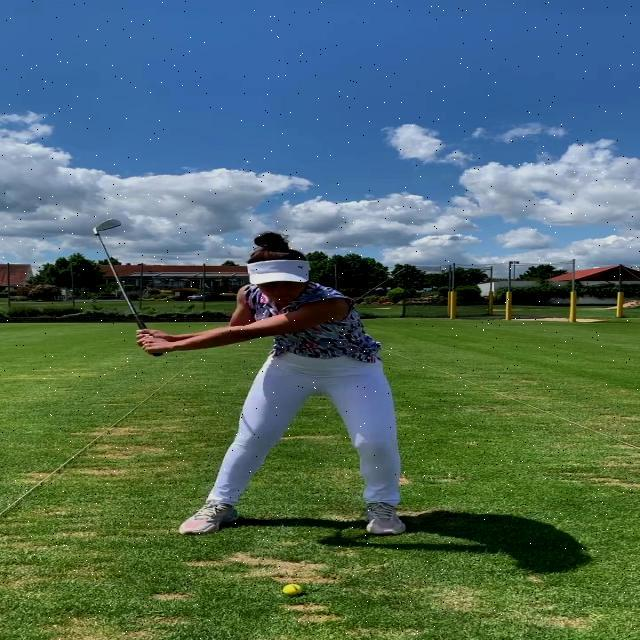golf ball: (283, 584, 301, 595)
golf club-handle: (94, 219, 164, 356)
golf club-head: (92, 220, 122, 231)
